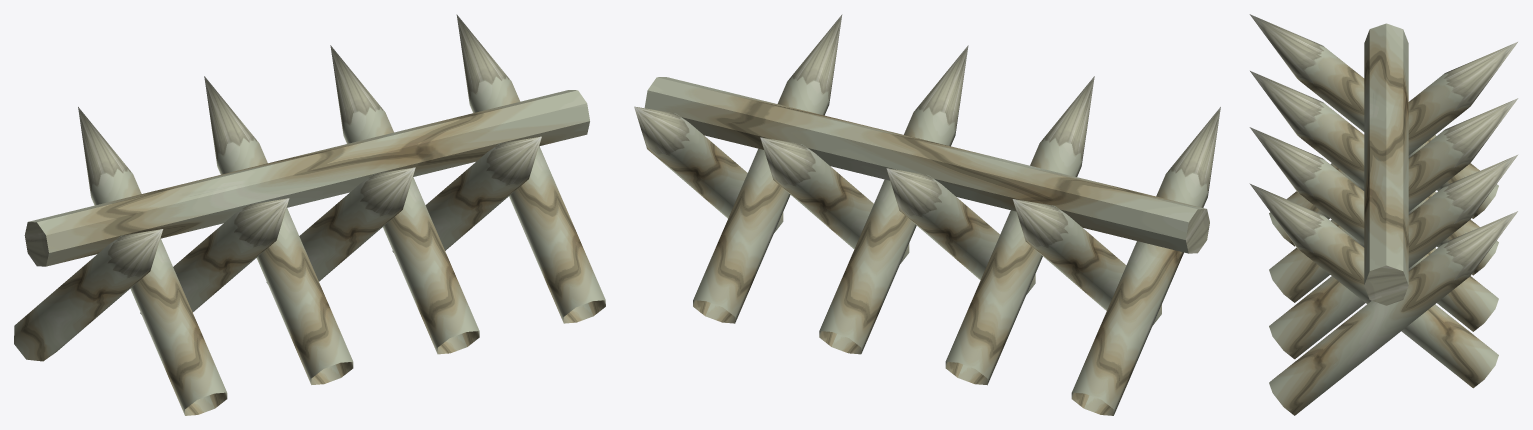
Rendered from spikeBarricadeNew.fbx.
3 views of the same model, side by side, from view 1: azimuth 30°, elevation 25°; view 2: azimuth 150°, elevation 25°; view 3: azimuth 270°, elevation 25° (orthographic). The views are drawn at different scales.
Parts seen in each view (by area): view 1: spikeBarricadeXbar, spikeBarricade5, spikeBarricade6, spikeBarricade4, spikeBarricade7, spikeBarricade, spikeBarricade3, spikeBarricade1, spikeBarricade2; view 2: spikeBarricadeXbar, spikeBarricade, spikeBarricade1, spikeBarricade3, spikeBarricade2, spikeBarricade7, spikeBarricade6, spikeBarricade5, spikeBarricade4; view 3: spikeBarricadeXbar, spikeBarricade7, spikeBarricade3, spikeBarricade6, spikeBarricade2, spikeBarricade5, spikeBarricade1, spikeBarricade, spikeBarricade4.
Part boxes in pixels (x1,y1,x2,y2): spikeBarricadeXbar: (24,90,589,266); spikeBarricade5: (204,76,353,384); spikeBarricade6: (330,45,479,354); spikeBarricade4: (78,107,227,415); spikeBarricade7: (456,14,605,323); spikeBarricade: (14,229,163,361); spikeBarricade3: (392,136,541,252); spikeBarricade1: (140,198,289,314); spikeBarricade2: (266,167,415,283); spikeBarricadeXbar: (644,77,1209,253); spikeBarricade: (1071,107,1220,415); spikeBarricade1: (945,76,1094,385); spikeBarricade3: (693,14,842,323); spikeBarricade2: (819,45,968,354); spikeBarricade7: (634,106,783,232); spikeBarricade6: (760,137,909,263); spikeBarricade5: (886,168,1035,294); spikeBarricade4: (1012,199,1161,324); spikeBarricadeXbar: (1364,23,1408,305); spikeBarricade7: (1269,211,1517,415); spikeBarricade3: (1249,183,1498,388); spikeBarricade6: (1269,154,1518,359); spikeBarricade2: (1249,127,1498,331); spikeBarricade5: (1269,98,1518,302); spikeBarricade1: (1250,71,1498,275); spikeBarricade: (1249,14,1498,218); spikeBarricade4: (1269,42,1517,246).
Bounding box in the file's own units: 322 × 125 × 151.
